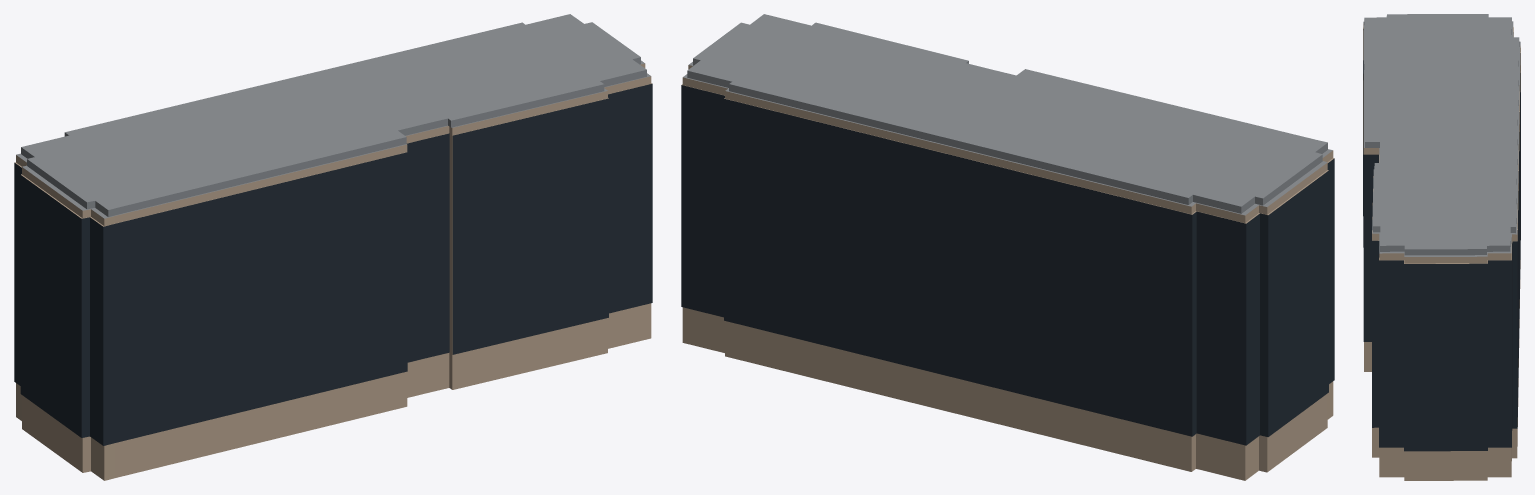
The model's file is bldg_w227736000.glb.
3 renders of one model, left to right at view 1: azimuth 30°, elevation 25°; view 2: azimuth 150°, elevation 25°; view 3: azimuth 270°, elevation 25°, orthographic. The views are drawn at different scales.
Visible parts, largest first — view 1: Bldg_W227736000; view 2: Bldg_W227736000; view 3: Bldg_W227736000.
Part boxes in pixels (x1=…): Bldg_W227736000: x1=14, y1=14, x2=652, y2=480; Bldg_W227736000: x1=681, y1=14, x2=1334, y2=480; Bldg_W227736000: x1=1363, y1=14, x2=1520, y2=480.
Bounding box in the file's own units: 102 × 45.8 × 28.49.
